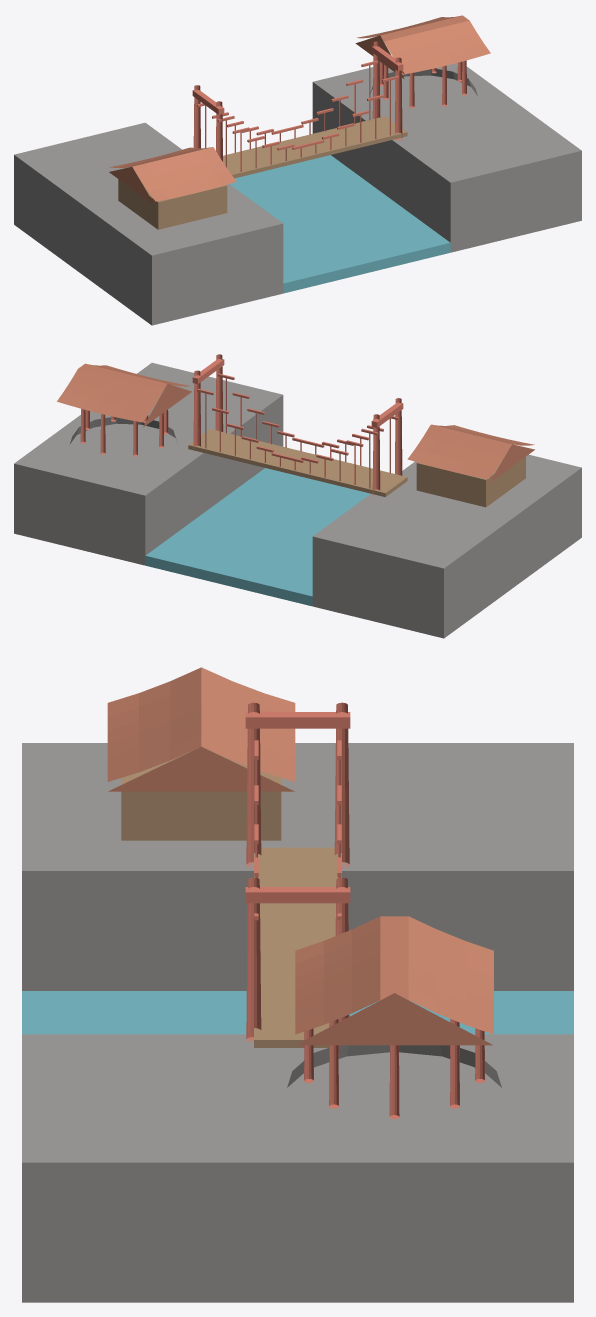
File: lm_84_thac_gougah_duc_trong_suspension_bridge_pavilion.glb
3 renders of one model, top to bottom at view 1: azimuth 30°, elevation 25°; view 2: azimuth 150°, elevation 25°; view 3: azimuth 270°, elevation 25°, orthographic. The views are drawn at different scales.
Parts seen in each view (by area): view 1: lm_84_thac_gougah_duc_trong_suspension_bridge_pavilion; view 2: lm_84_thac_gougah_duc_trong_suspension_bridge_pavilion; view 3: lm_84_thac_gougah_duc_trong_suspension_bridge_pavilion.
Boxes of the visible parts, x1=… form: lm_84_thac_gougah_duc_trong_suspension_bridge_pavilion: x1=14, y1=15, x2=581, y2=325; lm_84_thac_gougah_duc_trong_suspension_bridge_pavilion: x1=14, y1=354, x2=581, y2=638; lm_84_thac_gougah_duc_trong_suspension_bridge_pavilion: x1=22, y1=667, x2=573, y2=1302.
Size of the model in its own units: 36 by 12 by 20.
